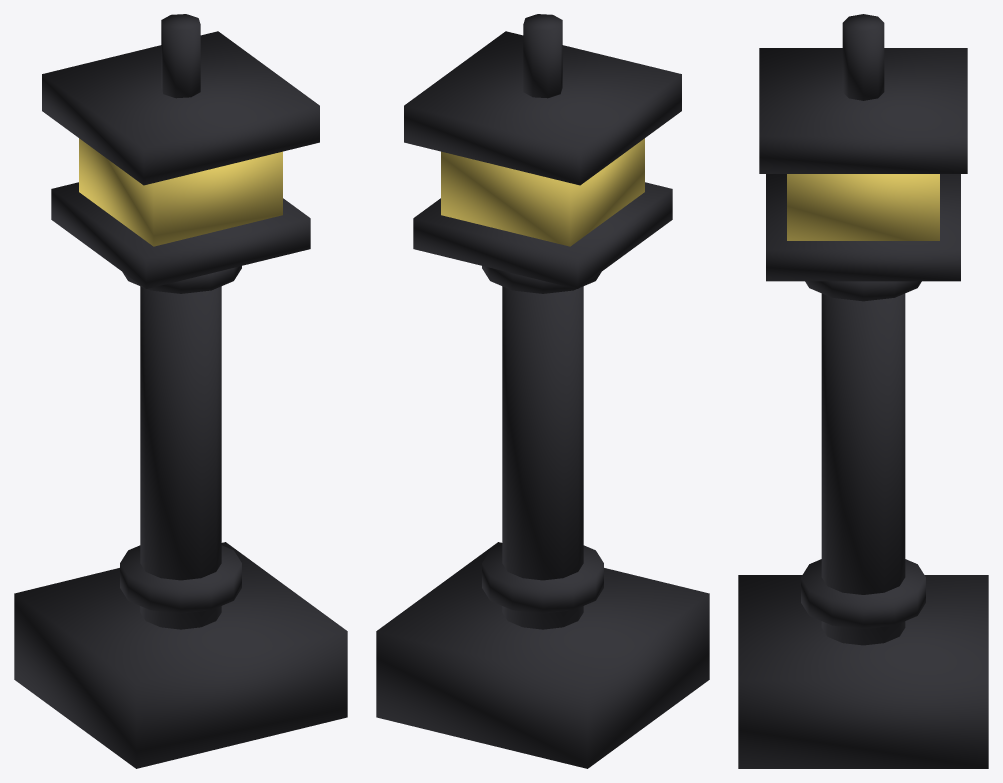
Rendered from town_street_lamp.obj.
The picture shows the model from 3 angles, left to right: view 1: azimuth 30°, elevation 25°; view 2: azimuth 150°, elevation 25°; view 3: azimuth 270°, elevation 25°; orthographic projection. The views are drawn at different scales.
Parts seen in each view (by area): view 1: town_street_lamp; view 2: town_street_lamp; view 3: town_street_lamp.
Boxes of the visible parts, <box> form: town_street_lamp: <box>14,14,347,768</box>; town_street_lamp: <box>376,14,709,768</box>; town_street_lamp: <box>738,14,988,768</box>.
Size of the model in its own units: 0.36 by 1.1 by 0.36.
